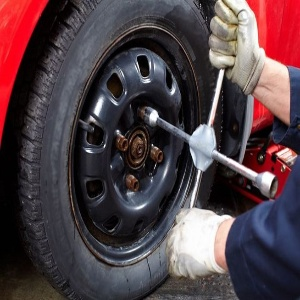train: (23, 3, 218, 294)
